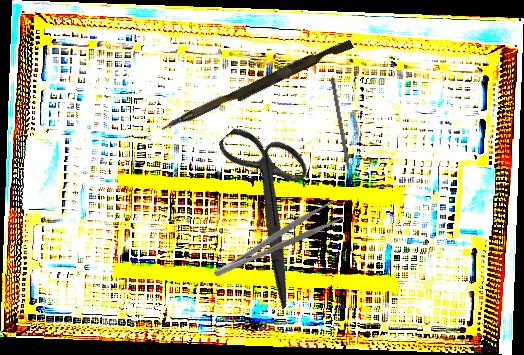Chopper: (324, 77, 354, 187)
Dressing Forceps: (206, 198, 346, 281)
Iris Scissors: (169, 106, 370, 312)
Pusher: (160, 34, 354, 139)
